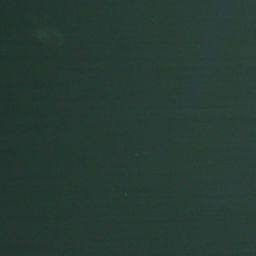con: (24, 6, 72, 55)
